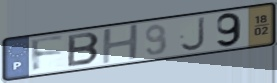9: (215, 11, 244, 48), (143, 23, 170, 58)
B: (66, 31, 103, 69)
F: (28, 34, 67, 74)
H: (100, 22, 141, 66)
J: (179, 15, 207, 52)
